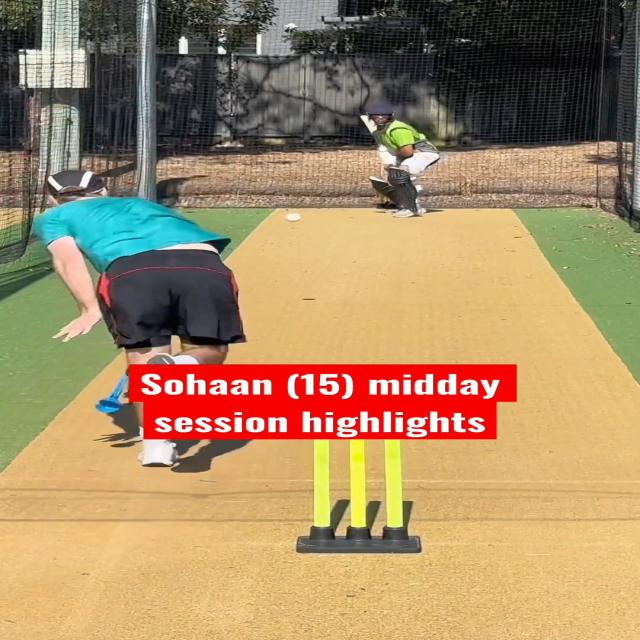ball: (284, 212, 302, 223)
stump: (298, 435, 419, 555)
